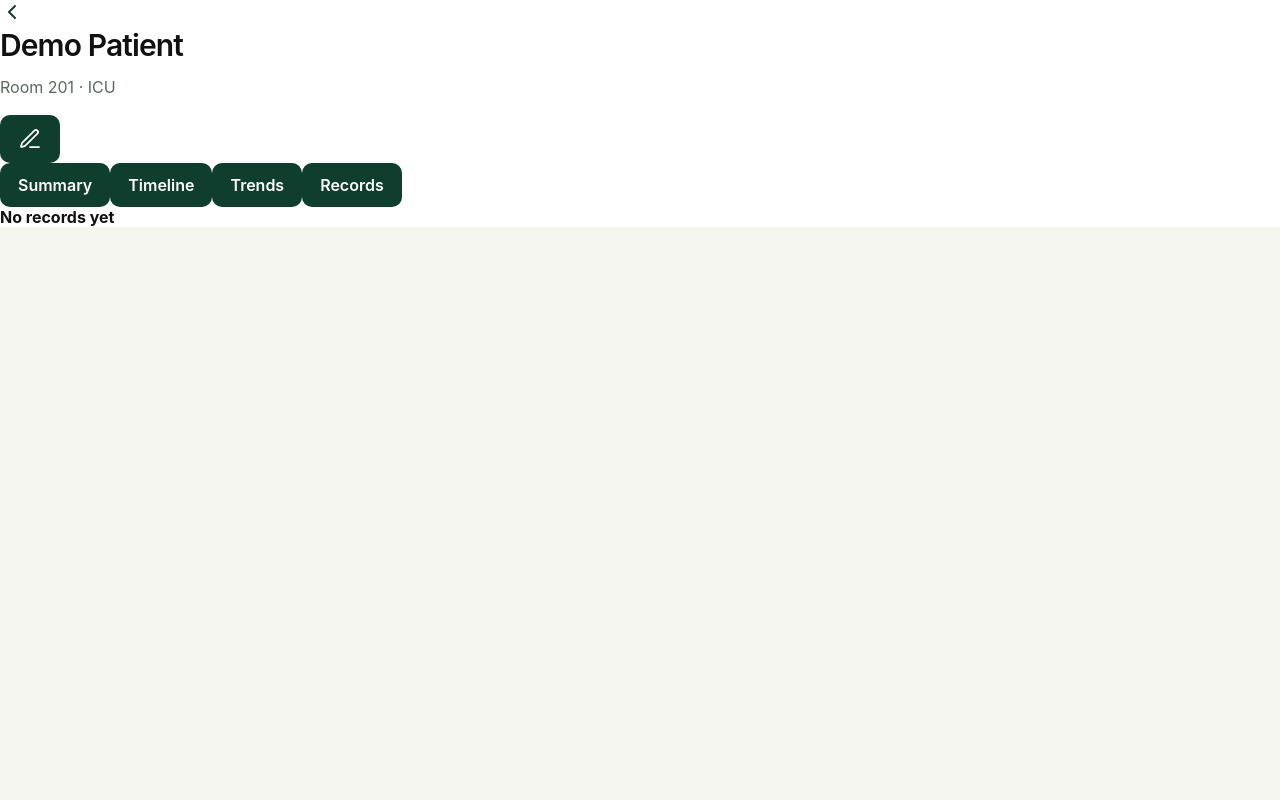
saves with the keyboard without duplicate requests or automatic clinical confirmation
Later steps or results of the test are not shown.
Click the button named "Document care": x=30, y=139 [0,115,60,163]
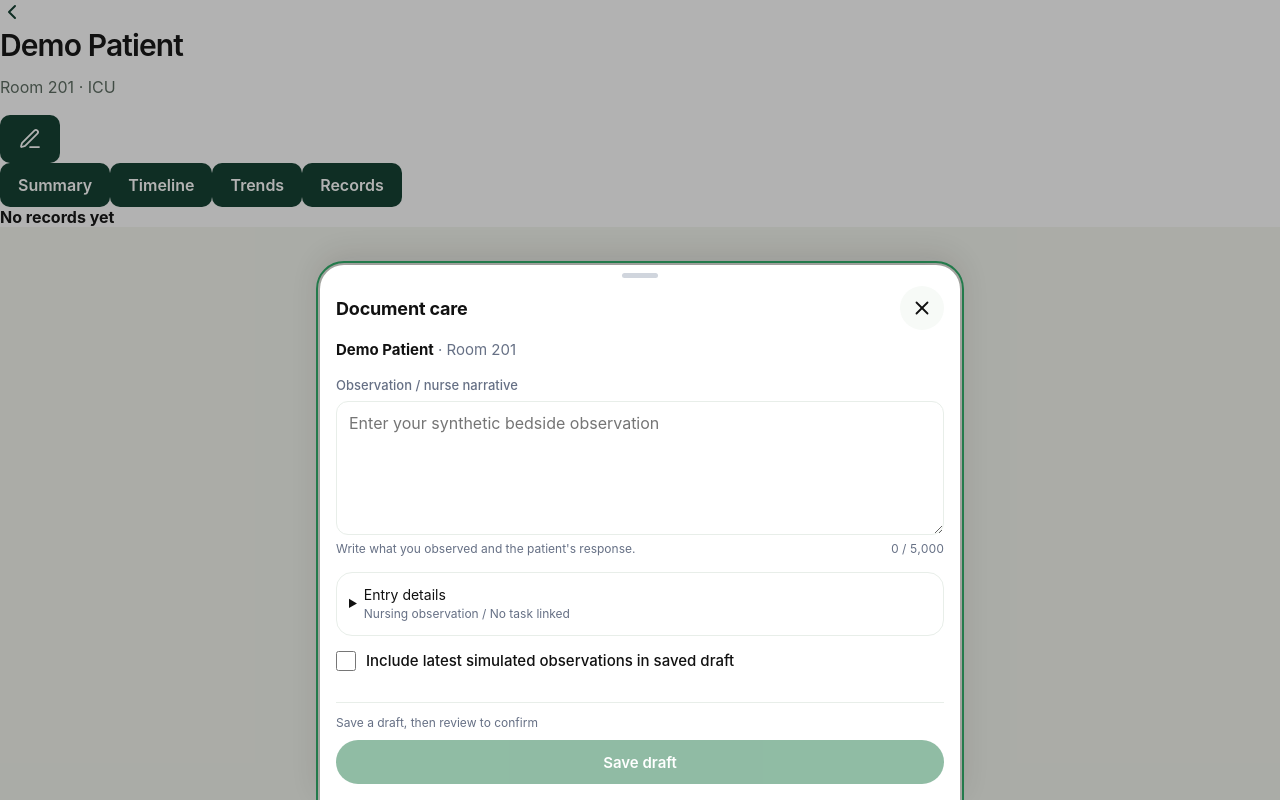
In the text box labelled "Observation / nurse narrative": x=640, y=468 [336,401,944,535], type "Patient repositioned and comfort reviewed"
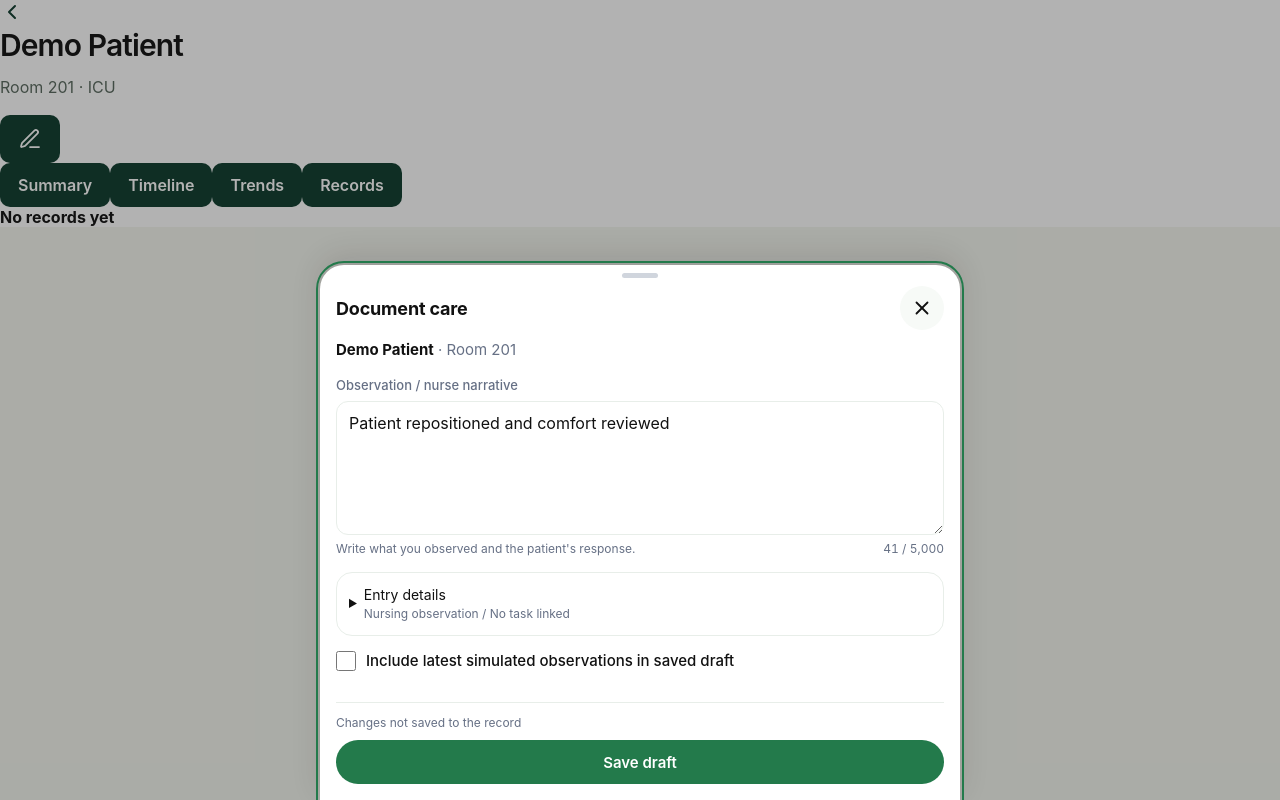
Press Enter in the text box labelled "Observation / nurse narrative", box [336,401,944,535]
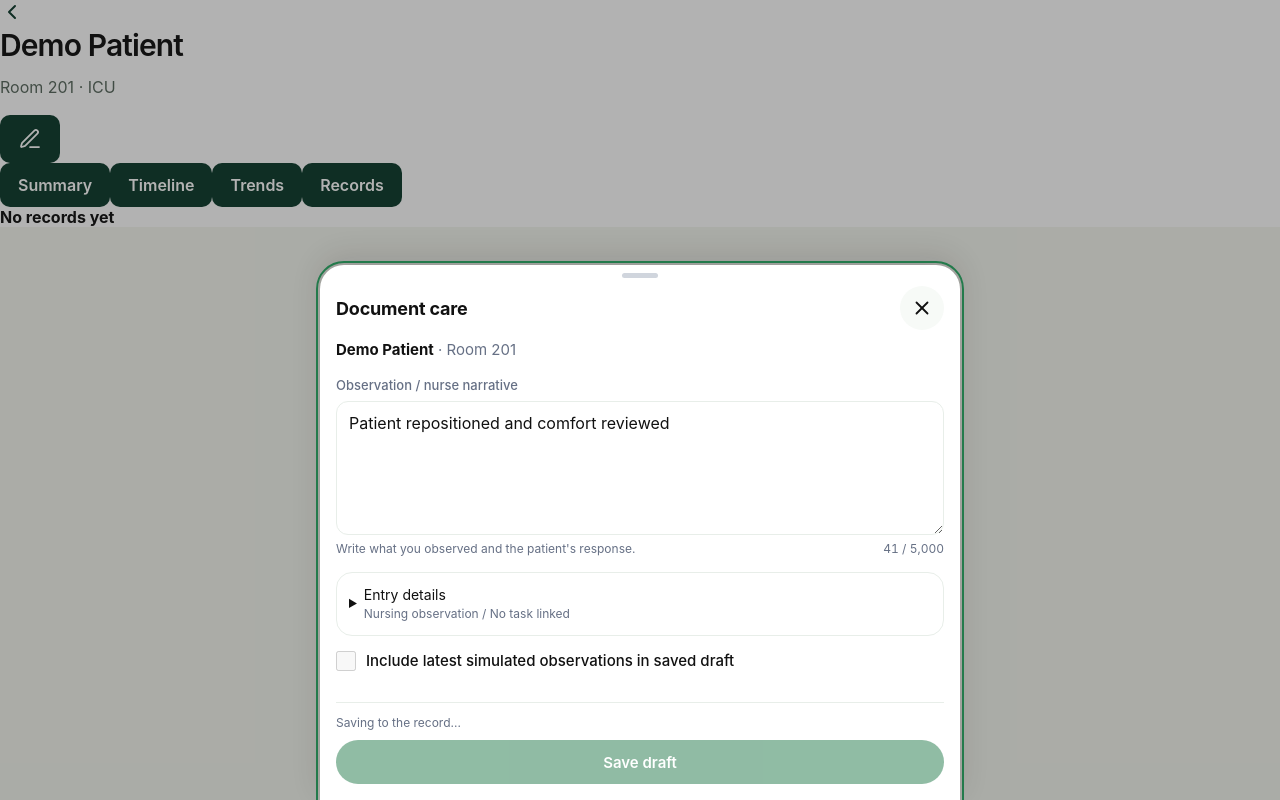
Check: the checkbox labelled "Include latest simulated observations in saved draft" is disabled, box [336,651,356,671]
Click the button "Save draft": x=640, y=762 [336,740,944,784]
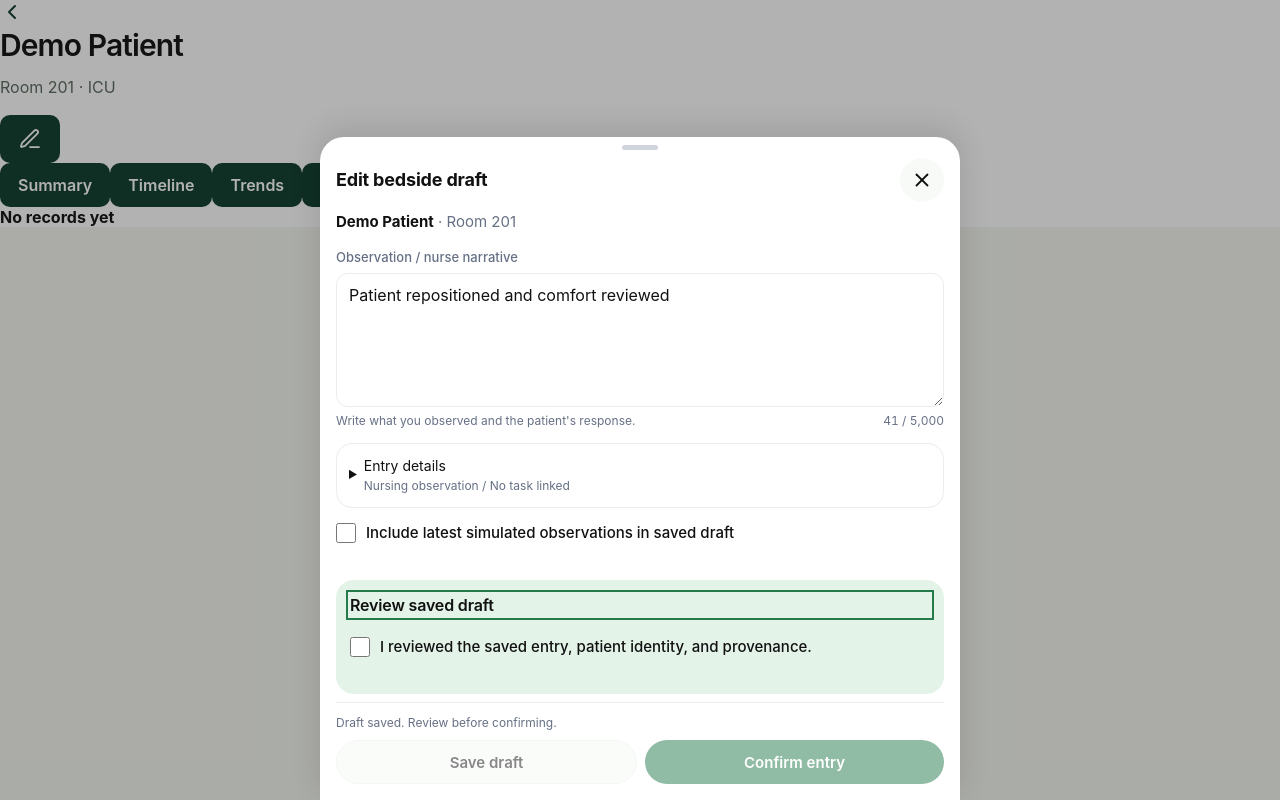
Check: the heading "Review saved draft" is shown, box [350,595,494,615]
Check: the button "Confirm entry" is disabled, box [645,740,944,784]
Check: the checkbox labelled "I reviewed the saved entry, patient identity, and provenance." is not checked, box [350,637,370,657]
